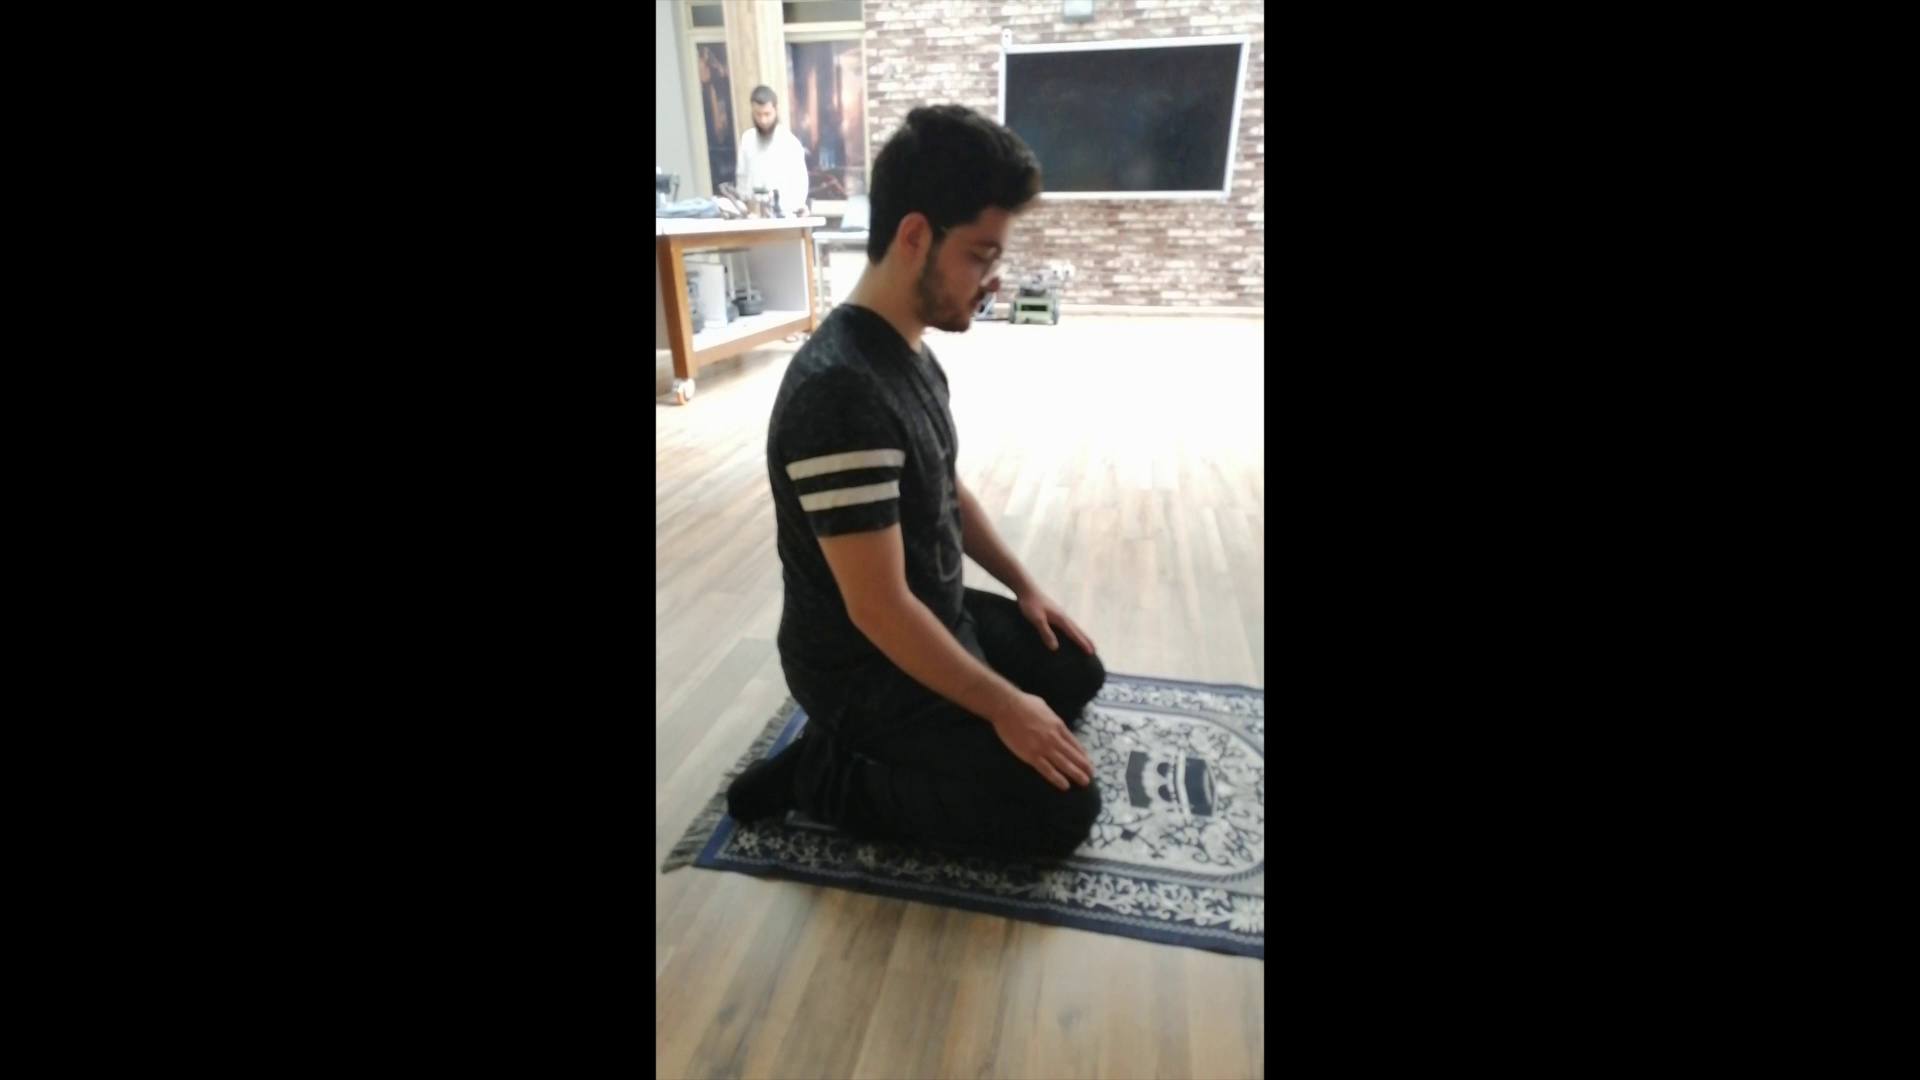sitting: (719, 94, 1120, 874)
